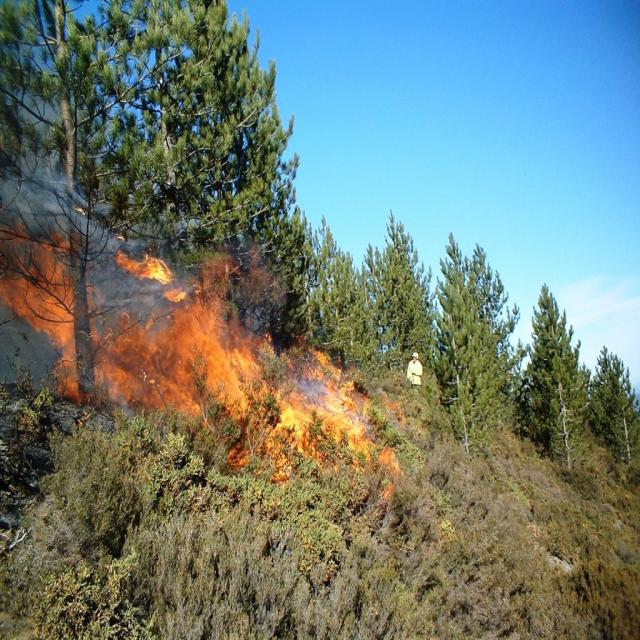Fire: (39, 260, 390, 485)
Smoke: (4, 176, 177, 328)
